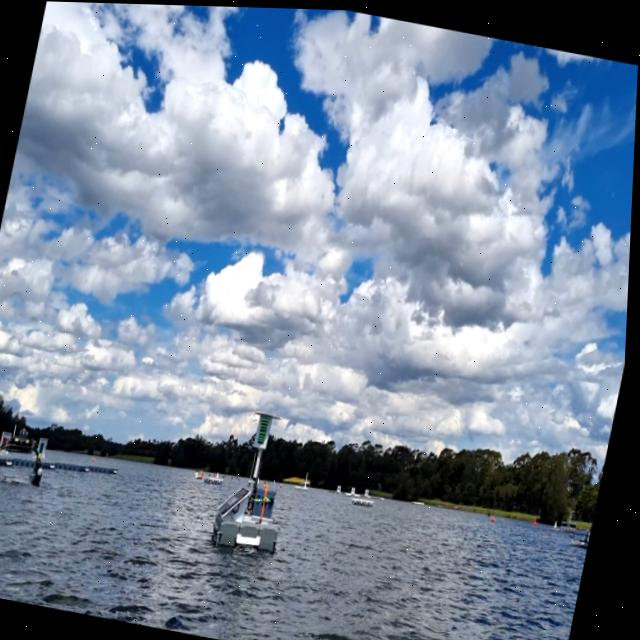led: (259, 413, 275, 446)
